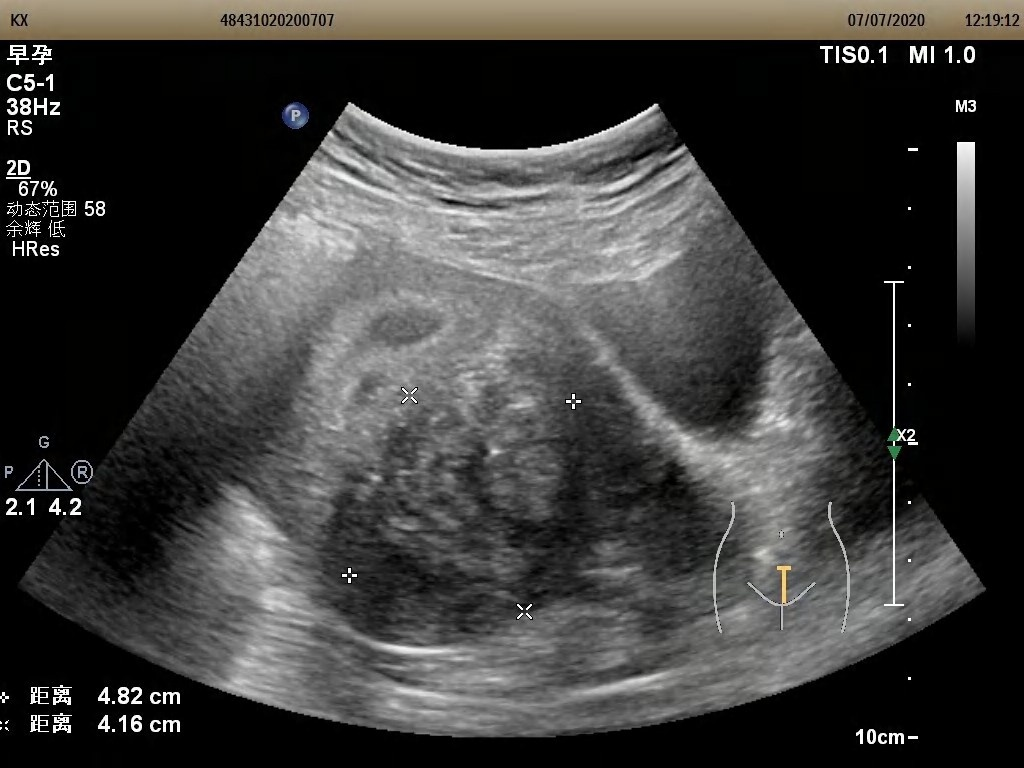肌瘤: (393, 400, 564, 596)
